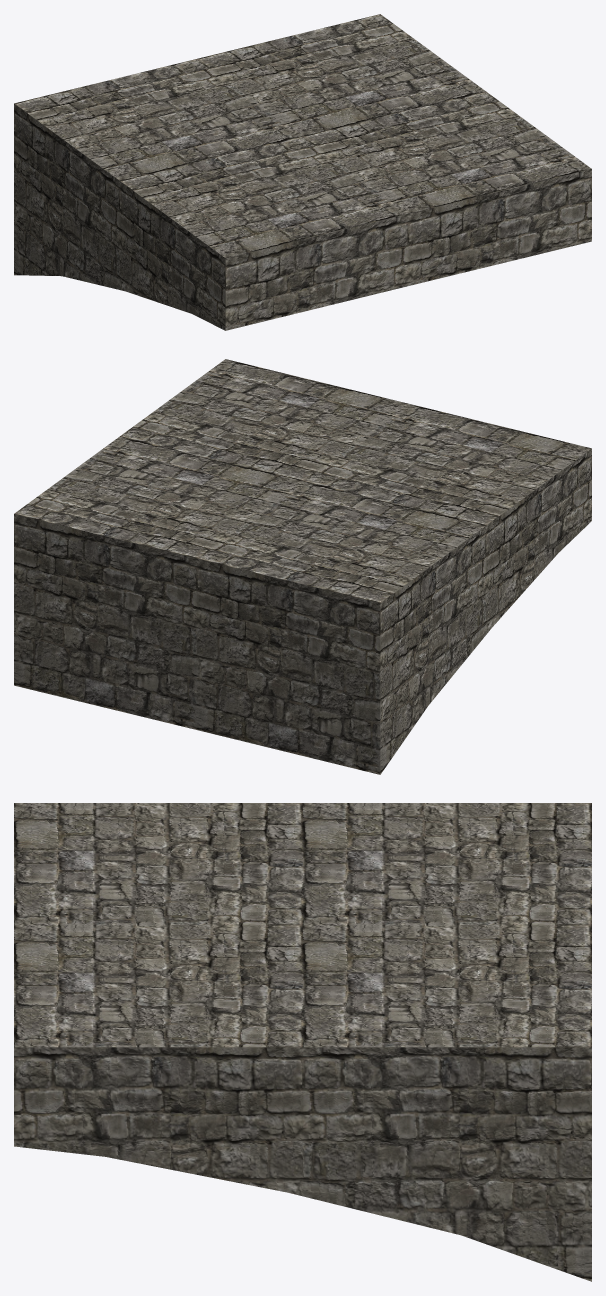
The model's file is StoneBridge_BracingCenter.dae.
3 renders of one model, top to bottom at view 1: azimuth 30°, elevation 25°; view 2: azimuth 150°, elevation 25°; view 3: azimuth 270°, elevation 25°, orthographic. The views are drawn at different scales.
Parts seen in each view (by area): view 1: BracingDoubleCenter; view 2: BracingDoubleCenter; view 3: BracingDoubleCenter.
Boxes of the visible parts, <box> form: BracingDoubleCenter: <box>14,14,591,330</box>; BracingDoubleCenter: <box>14,359,591,774</box>; BracingDoubleCenter: <box>14,803,591,1281</box>.
Size of the model in its own units: 4 by 1.79 by 4.
2 materials, 2 textured.
